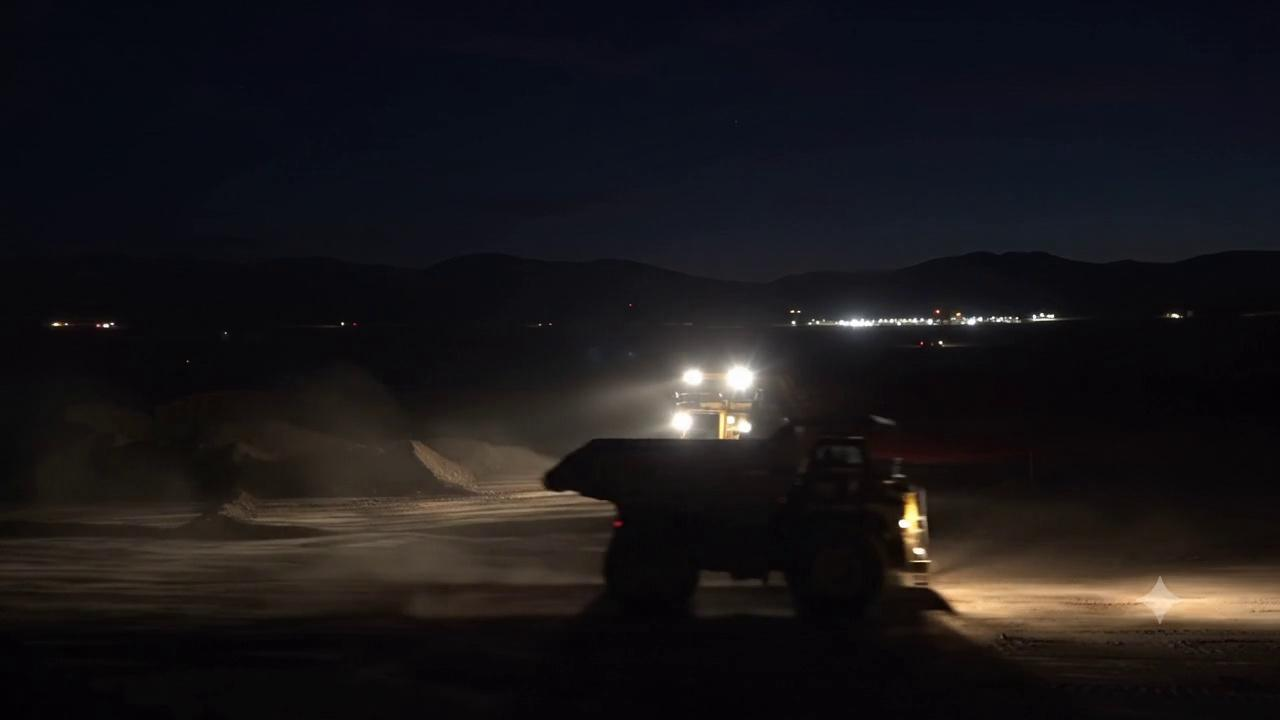CAEX: (543, 430, 932, 622)
